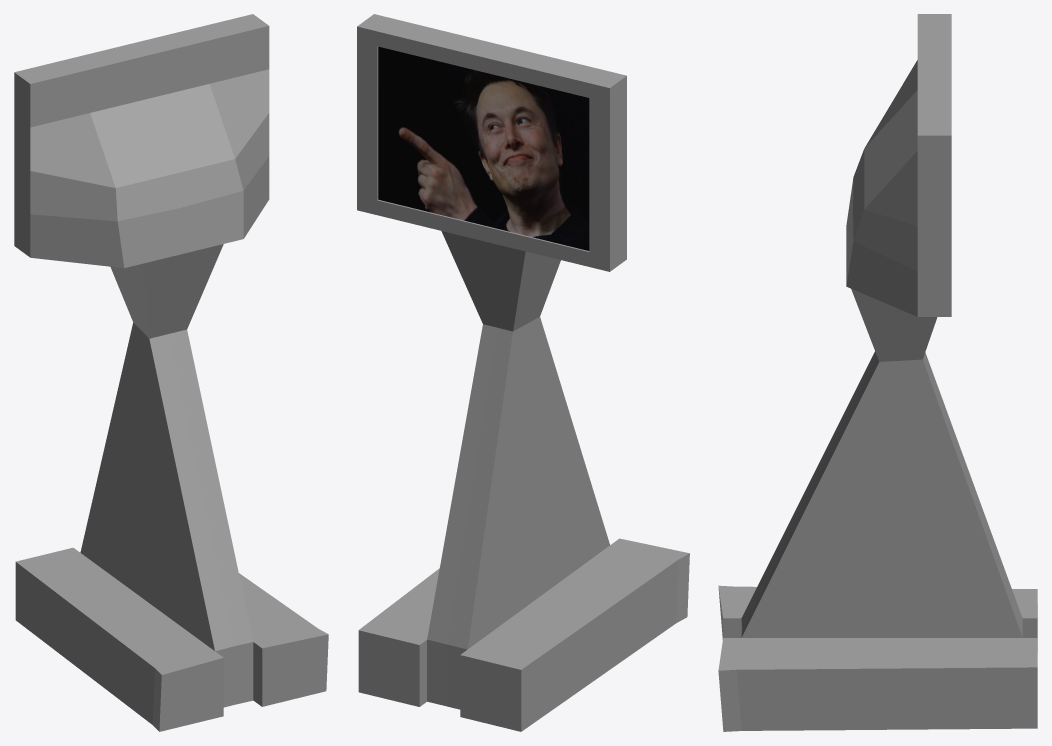
The model's file is cybermusk2.fbx.
3 renders of one model, left to right at view 1: azimuth 30°, elevation 25°; view 2: azimuth 150°, elevation 25°; view 3: azimuth 270°, elevation 25°, orthographic. The views are drawn at different scales.
Parts seen in each view (by area): view 1: robot; view 2: robot, Object001; view 3: robot.
Boxes of the visible parts, x1=… form: robot: x1=14, y1=14, x2=328, y2=731; robot: x1=357, y1=14, x2=689, y2=731; Object001: x1=378, y1=46, x2=589, y2=250; robot: x1=718, y1=14, x2=1037, y2=731.
Size of the model in its own units: 288 by 678 by 319.
